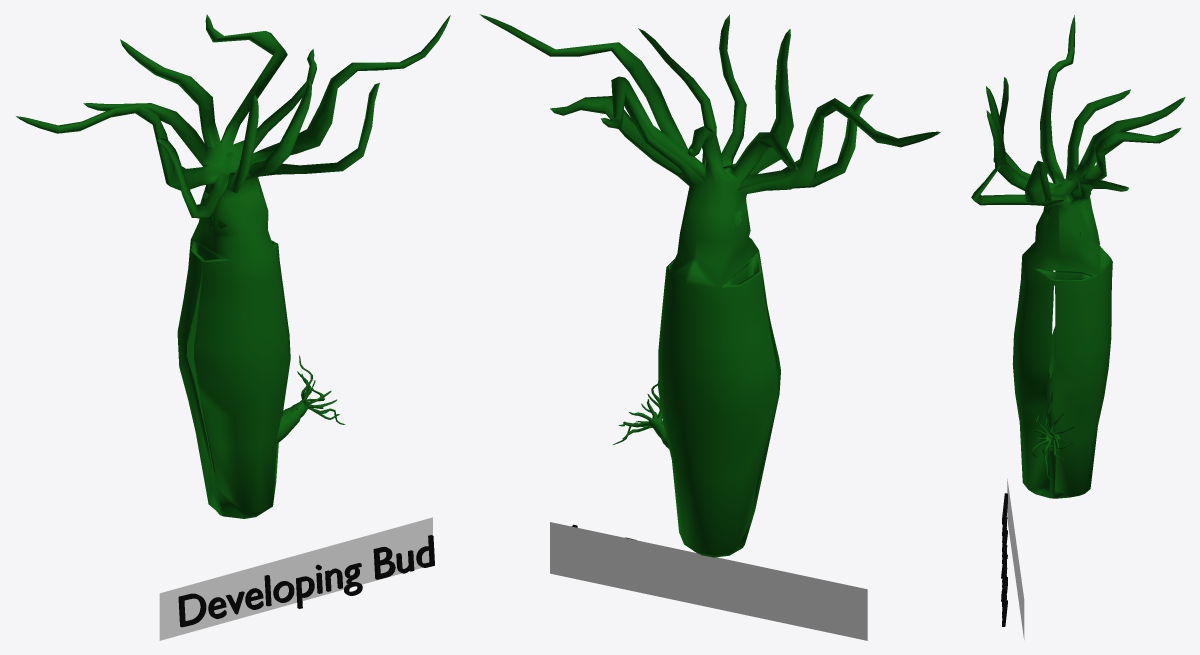
File: bud.gltf
3 renders of one model, left to right at view 1: azimuth 30°, elevation 25°; view 2: azimuth 150°, elevation 25°; view 3: azimuth 270°, elevation 25°, orthographic. The views are drawn at different scales.
Visible parts, largest first — view 1: Object_7.002, Plane.006, Text.007, Object_7.003; view 2: Object_7.002, Plane.006, Object_7.003; view 3: Object_7.002, Object_7.003, Plane.006, Text.007.
Boxes of the visible parts, box(x1,y1,x2,y2) form: Object_7.002: box(16, 14, 450, 518); Plane.006: box(159, 517, 432, 640); Text.007: box(178, 535, 434, 627); Object_7.003: box(276, 355, 345, 443); Object_7.002: box(479, 14, 940, 557); Plane.006: box(550, 522, 867, 640); Object_7.003: box(613, 383, 668, 448); Object_7.002: box(971, 15, 1185, 498); Object_7.003: box(1031, 391, 1075, 480); Plane.006: box(1007, 479, 1024, 639); Text.007: box(1001, 493, 1007, 626).
Size of the model in its own units: 14.39 by 17.03 by 7.05.
